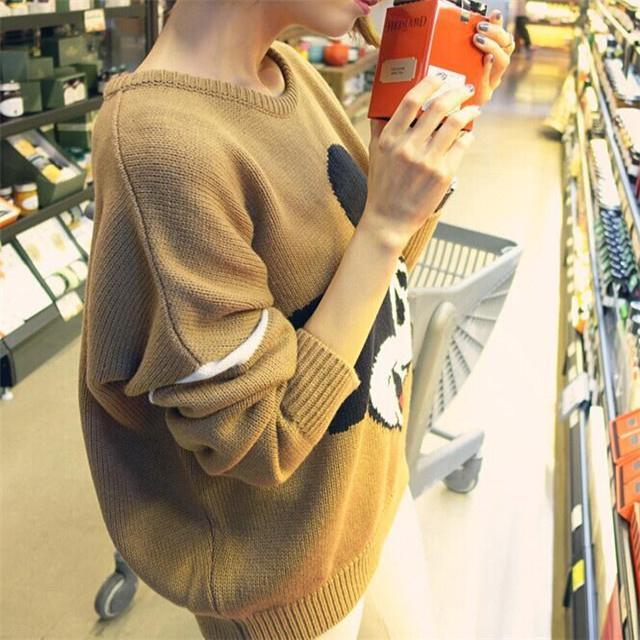long-sleeve-top: (77, 48, 467, 618)
